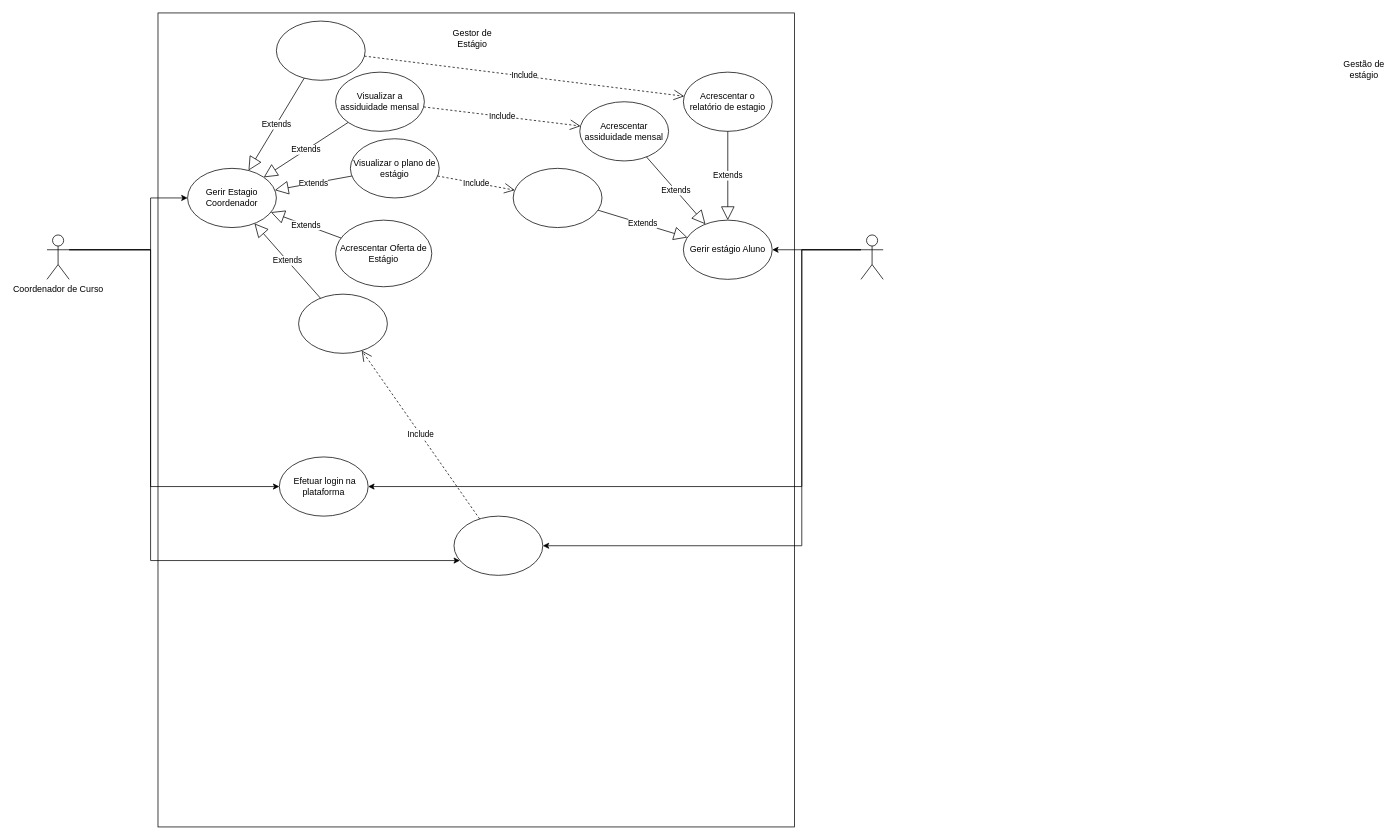
Image size: 1399x840. Some labels were removed from this diagram. Here are the shapes that lost their labels. From the top down, the centre of each, then its label:
At pixel 320 50: "Visualizar o relatorio de estágio".
At pixel 557 198: "Acrescentar o plano de estagio".
At pixel 871 256: "Aluno".
At pixel 342 323: "Registar Alunos em estagio".
At pixel 498 545: "Efetuar Registo na plataforma".
